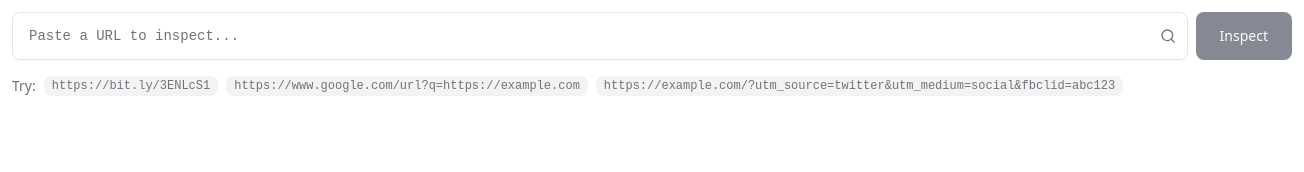
Test: UrlForm › enables button when input has text
Type "https://example.com" into the field with placeholder "Paste a URL to inspect..." at (600, 36), box [12, 12, 1188, 60]
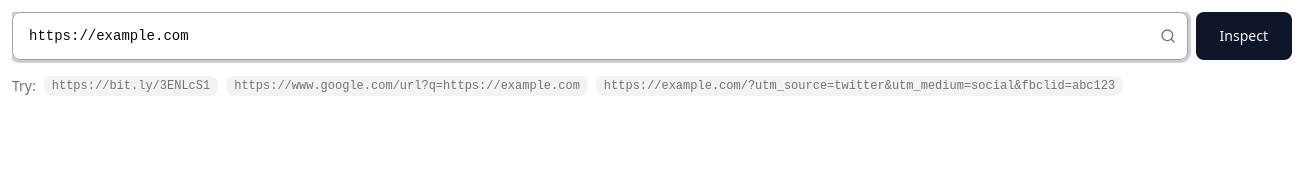
Result: the button "Inspect" is enabled at [1196, 12, 1292, 60]
